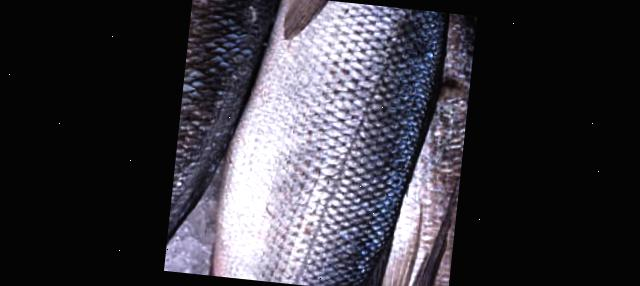Healthy Fish: (210, 0, 447, 286)
